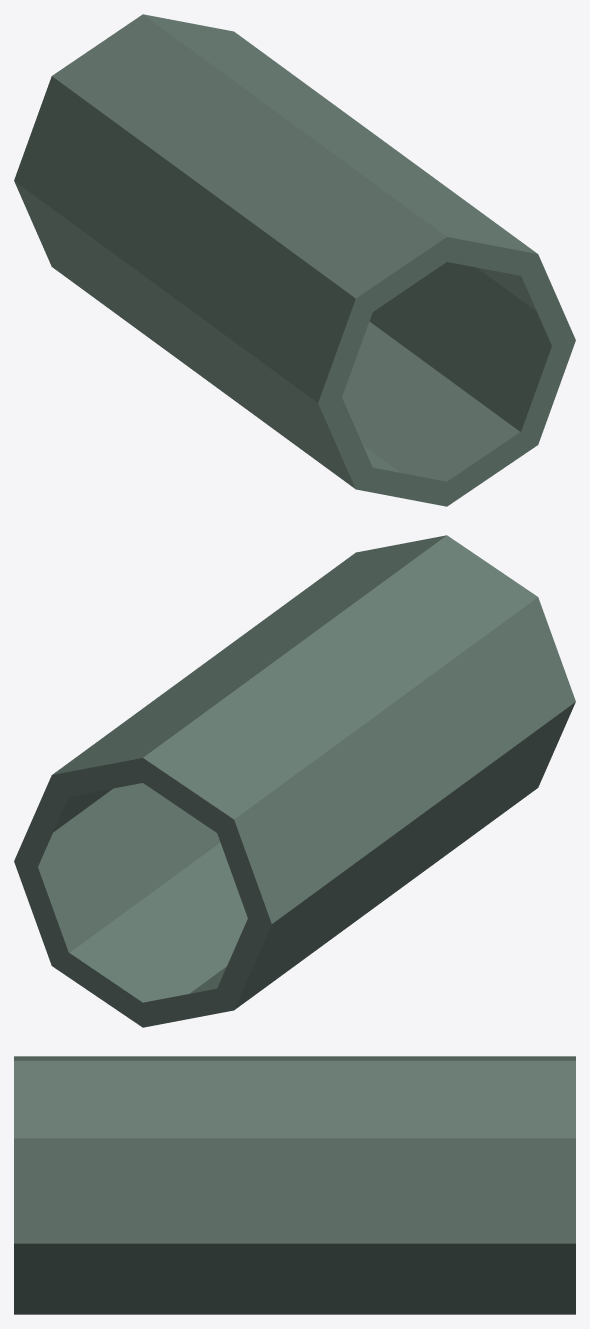
The model's file is pipeStraight.glb.
3 renders of one model, top to bottom at view 1: azimuth 30°, elevation 25°; view 2: azimuth 150°, elevation 25°; view 3: azimuth 270°, elevation 25°, orthographic. The views are drawn at different scales.
Visible parts, largest first — view 1: pipeStraight; view 2: pipeStraight; view 3: pipeStraight.
Part boxes in pixels (x1,y1,x2,y2): pipeStraight: (14,14,575,506); pipeStraight: (14,535,575,1027); pipeStraight: (14,1056,575,1314).
Bounding box in the file's own units: 1 × 1 × 2.04.
